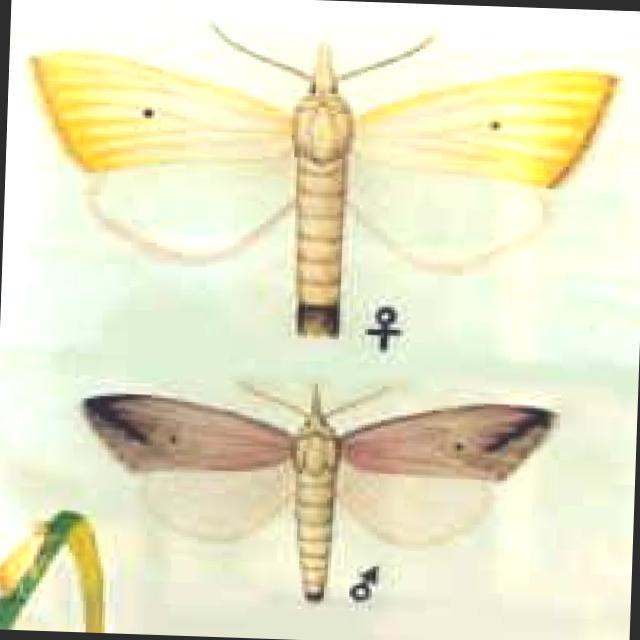stem borer: (31, 24, 616, 338), (82, 383, 558, 601)
